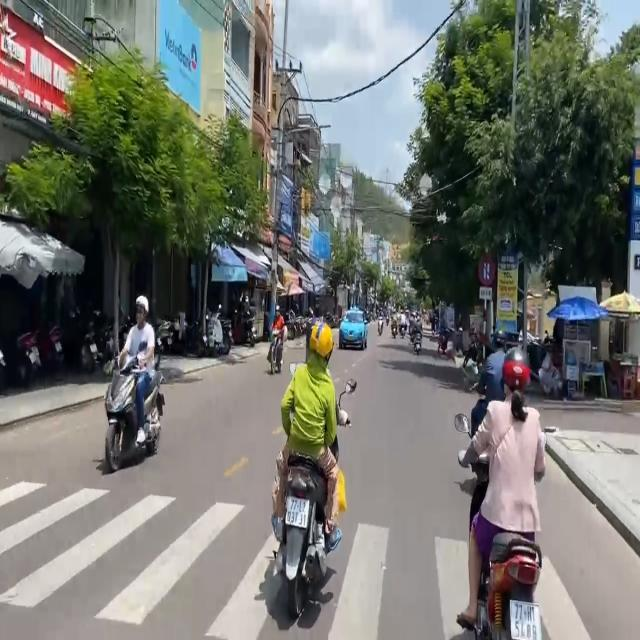walk-crossing: (1, 473, 601, 640)
